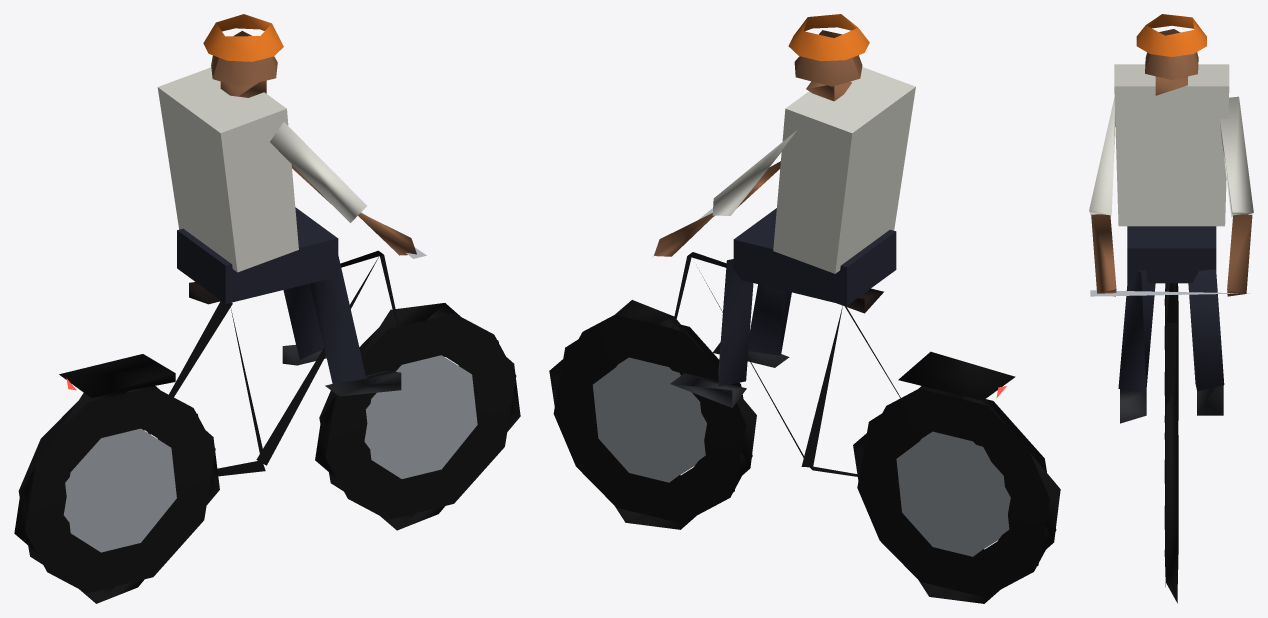
Rendered from bicycle_lod1.glb.
3 renders of one model, left to right at view 1: azimuth 30°, elevation 25°; view 2: azimuth 150°, elevation 25°; view 3: azimuth 270°, elevation 25°, orthographic. The views are drawn at different scales.
Visible parts, largest first — view 1: bicycle_body, wheel_r.002, wheel_f.004; view 2: bicycle_body, wheel_r.002, wheel_f.004; view 3: bicycle_body, wheel_f.004, wheel_r.002.
Boxes of the visible parts, box(x1,y1,x2,y2) form: bicycle_body: box(59, 14, 426, 481); wheel_r.002: box(14, 386, 219, 603); wheel_f.004: box(315, 303, 520, 530); bicycle_body: box(652, 14, 1015, 482); wheel_r.002: box(853, 386, 1060, 603); wheel_f.004: box(549, 300, 756, 529); bicycle_body: box(1089, 14, 1253, 423); wheel_f.004: box(1164, 386, 1178, 603); wheel_r.002: box(1164, 283, 1178, 422).
Size of the model in its own units: 1.78 by 1.83 by 0.5565.
Materials: 2 (1 with a texture image).
